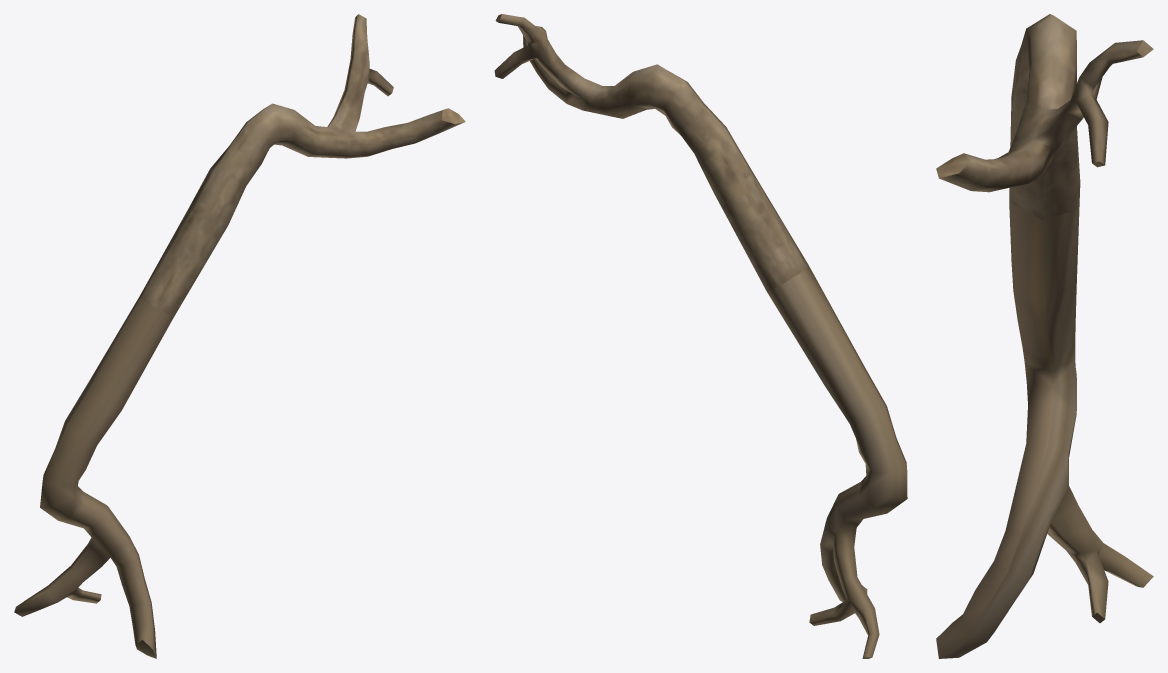
File: objects_un_dlc2_tree_dead01_02.gltf
3 renders of one model, left to right at view 1: azimuth 30°, elevation 25°; view 2: azimuth 150°, elevation 25°; view 3: azimuth 270°, elevation 25°, orthographic. The views are drawn at different scales.
Visible parts, largest first — view 1: um_objects_un_dlc2_tree_dead01_02_model_lod0Shape:objects_un; view 2: um_objects_un_dlc2_tree_dead01_02_model_lod0Shape:objects_un; view 3: um_objects_un_dlc2_tree_dead01_02_model_lod0Shape:objects_un.
Boxes of the visible parts, left/top/right/bottom form: um_objects_un_dlc2_tree_dead01_02_model_lod0Shape:objects_un: left=14, top=14, right=465, bottom=658; um_objects_un_dlc2_tree_dead01_02_model_lod0Shape:objects_un: left=494, top=14, right=907, bottom=658; um_objects_un_dlc2_tree_dead01_02_model_lod0Shape:objects_un: left=936, top=14, right=1153, bottom=658.
Size of what is drawn, in the model's own units: 4.7 by 6.14 by 1.47.
Materials: 2 (1 with a texture image).
